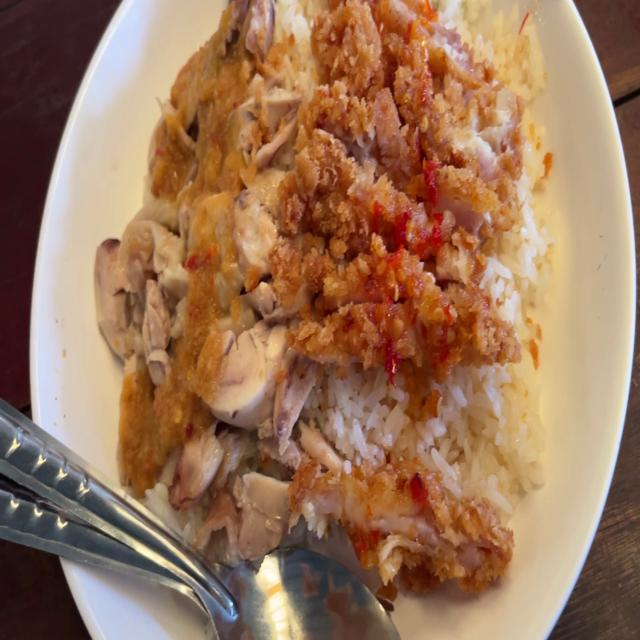boiled_chicken: (96, 8, 285, 459)
chicken_rice: (101, 1, 546, 582)
fried_chicken: (288, 2, 489, 370), (229, 438, 510, 582)
